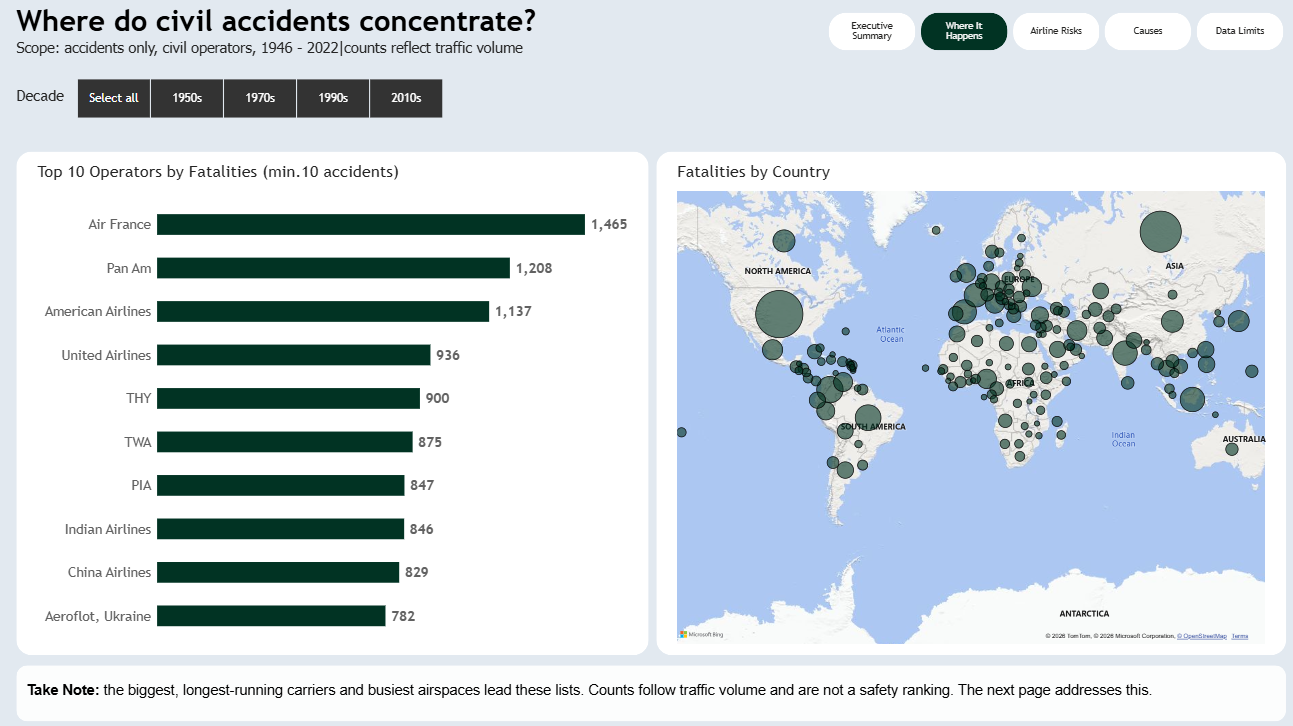

What the dashboard file says about the page in this screenshot:
{"tool":"powerbi","page":{"name":"Where It Happens","canvas":[1920,1080],"ordinal":1},"visuals":[{"type":"shape","box":[31.2,232,928.1,739.2],"z":0},{"type":"shape","box":[970.3,232,924.5,739.2],"z":1000},{"type":"textbox","box":[31.2,14.7,928.1,93.5],"z":2000},{"type":"textbox","box":[31.2,137.6,137.6,56.9],"z":4000},{"type":"clusteredBarChart","title":"Top 10 Operators by Fatalities (min.10 accidents)","fields":{"Category":["dw accidents.operator"],"Y":["Dax Measures.Fatalities"]},"box":[45.9,231.1,898.8,739.2],"z":5000},{"type":"map","title":"Fatalities by Country","fields":{"Category":["dw accidents.country"],"Size":["Dax Measures.Fatalities"]},"box":[985,231.1,895.1,739.2],"z":6000},{"type":"pageNavigator","box":[1223.4,27.5,671.3,55],"z":7000},{"type":"slicer","fields":{"Values":["dw accidents.Decade lable"]},"box":[100.9,122.9,574.1,60.5],"z":8000},{"type":"shape","box":[31.2,985,1863.6,82.5],"z":9000},{"type":"textbox","box":[45.9,1008.8,1834.2,58.7],"z":10000}]}

Visuals, with their boxes in screenshot pixels (x1, y1, x2, y2), scaled from the page's 1920x1080 canvas onto the 1293x726 screenshot:
shape: select_region(21, 156, 646, 653)
shape: select_region(653, 156, 1276, 653)
textbox: select_region(21, 10, 646, 73)
textbox: select_region(21, 92, 114, 131)
"Top 10 Operators by Fatalities (min.10 accidents)" clusteredBarChart: select_region(31, 155, 636, 652)
"Fatalities by Country" map: select_region(663, 155, 1266, 652)
pageNavigator: select_region(824, 18, 1276, 55)
slicer - dw accidents.Decade lable: select_region(68, 83, 455, 123)
shape: select_region(21, 662, 1276, 718)
textbox: select_region(31, 678, 1266, 718)
